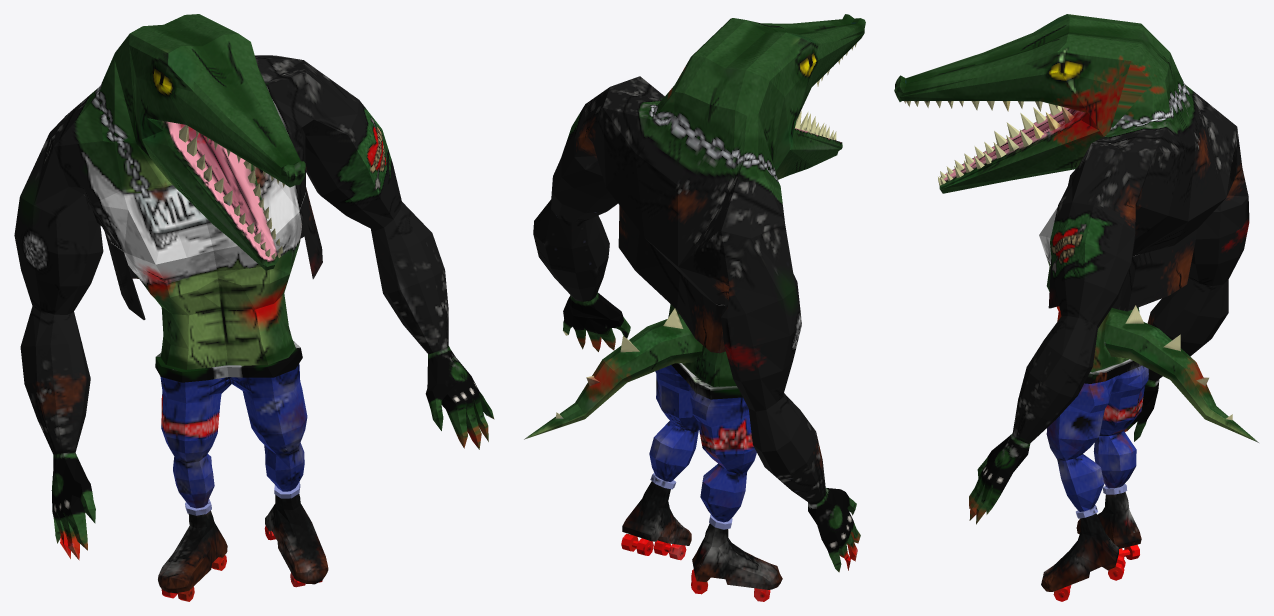
Rendered from cocodrilaBonesSelect_000008.obj.
3 renders of one model, left to right at view 1: azimuth 30°, elevation 25°; view 2: azimuth 150°, elevation 25°; view 3: azimuth 270°, elevation 25°, orthographic. The views are drawn at different scales.
Parts seen in each view (by area): view 1: Crocodile.002_Cylinder.002; view 2: Crocodile.002_Cylinder.002; view 3: Crocodile.002_Cylinder.002.
Part boxes in pixels (box(x1,y1,x2,y2)): Crocodile.002_Cylinder.002: box(14, 14, 494, 601); Crocodile.002_Cylinder.002: box(524, 14, 865, 601); Crocodile.002_Cylinder.002: box(894, 14, 1258, 601).
Size of the model in its own units: 4.53 by 6.78 by 4.27.
